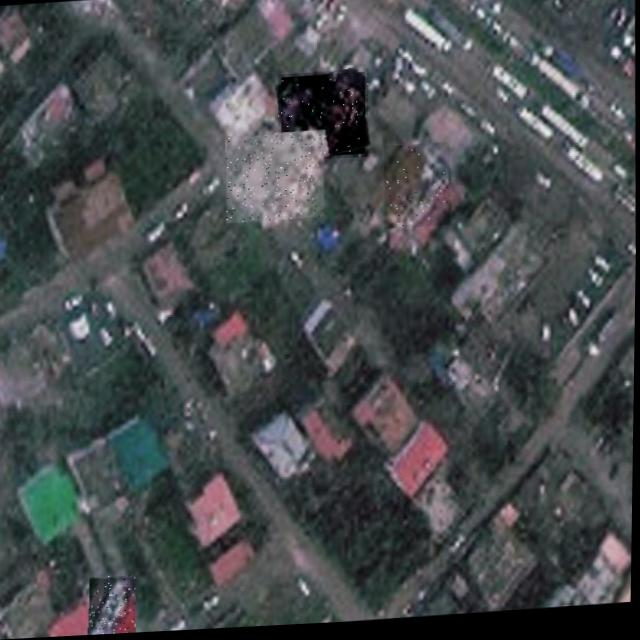Rubble: (225, 133, 324, 225), (276, 72, 369, 166), (384, 146, 452, 233), (89, 575, 137, 636)
